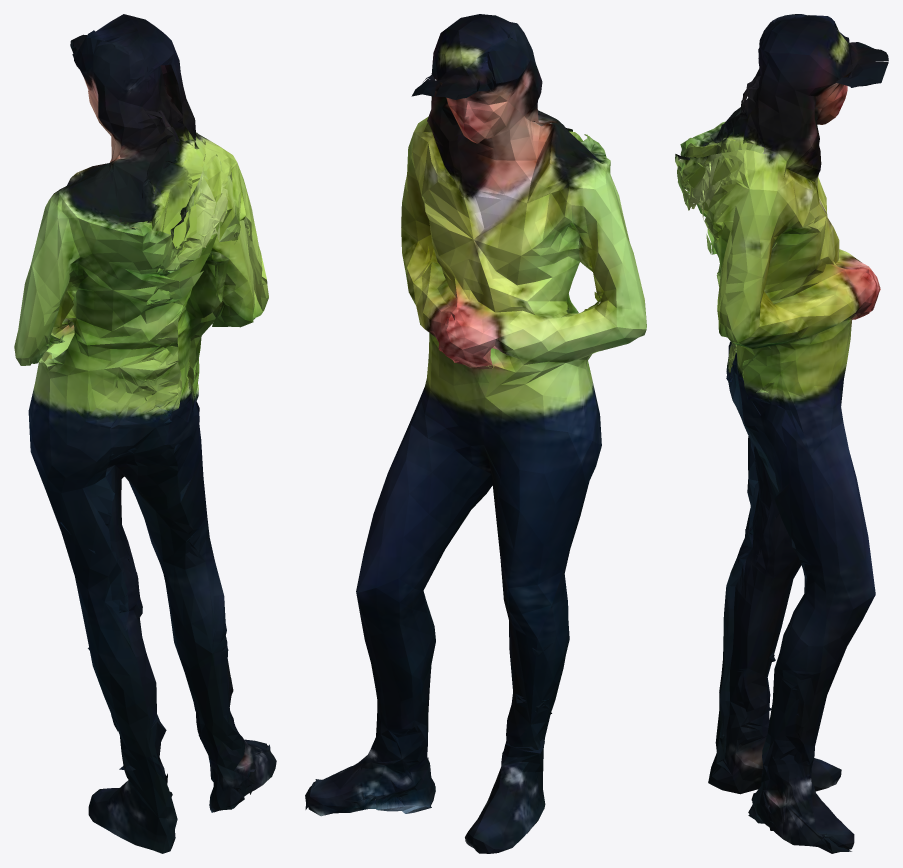
The picture shows the model from 3 angles, left to right: view 1: azimuth 30°, elevation 25°; view 2: azimuth 150°, elevation 25°; view 3: azimuth 270°, elevation 25°; orthographic projection. The views are drawn at different scales.
Visible parts, largest first — view 1: dec_0004; view 2: dec_0004; view 3: dec_0004.
Boxes of the visible parts, x1,y1,x2,y2 form: dec_0004: (14, 14, 276, 853); dec_0004: (305, 14, 646, 853); dec_0004: (675, 14, 888, 853).
Size of the model in its own units: 0.6827 by 1.77 by 0.4417.
Materials: 1 (1 with a texture image).
